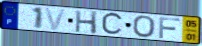1: (31, 6, 44, 30)
C: (100, 12, 125, 37)
F: (158, 17, 182, 40)
H: (74, 10, 99, 35)
O: (132, 15, 157, 39)
V: (43, 7, 68, 32)
